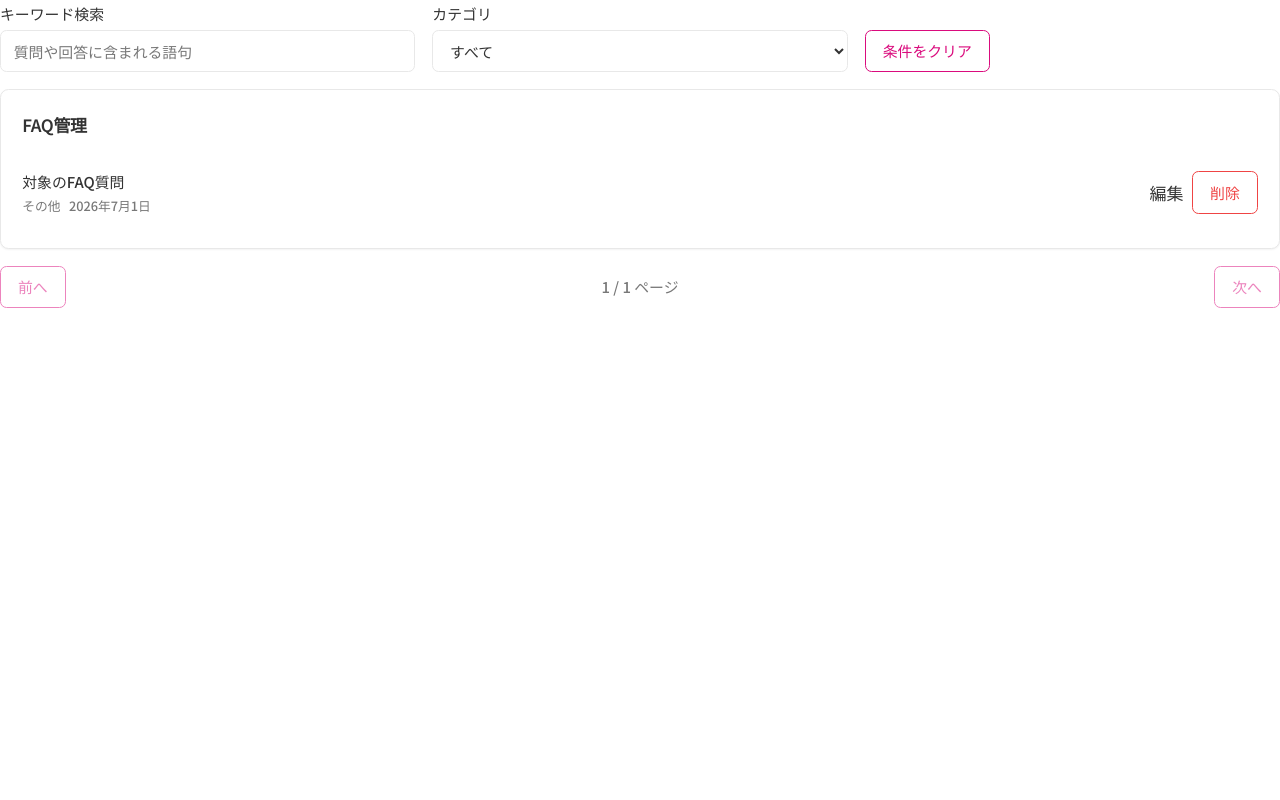
it: FaqManagementListClient › 削除確認モーダルの本文に対象の質問文が表示される
Click the button "削除".
click(1225, 192)  # box left=1192, top=171, right=1258, bottom=214
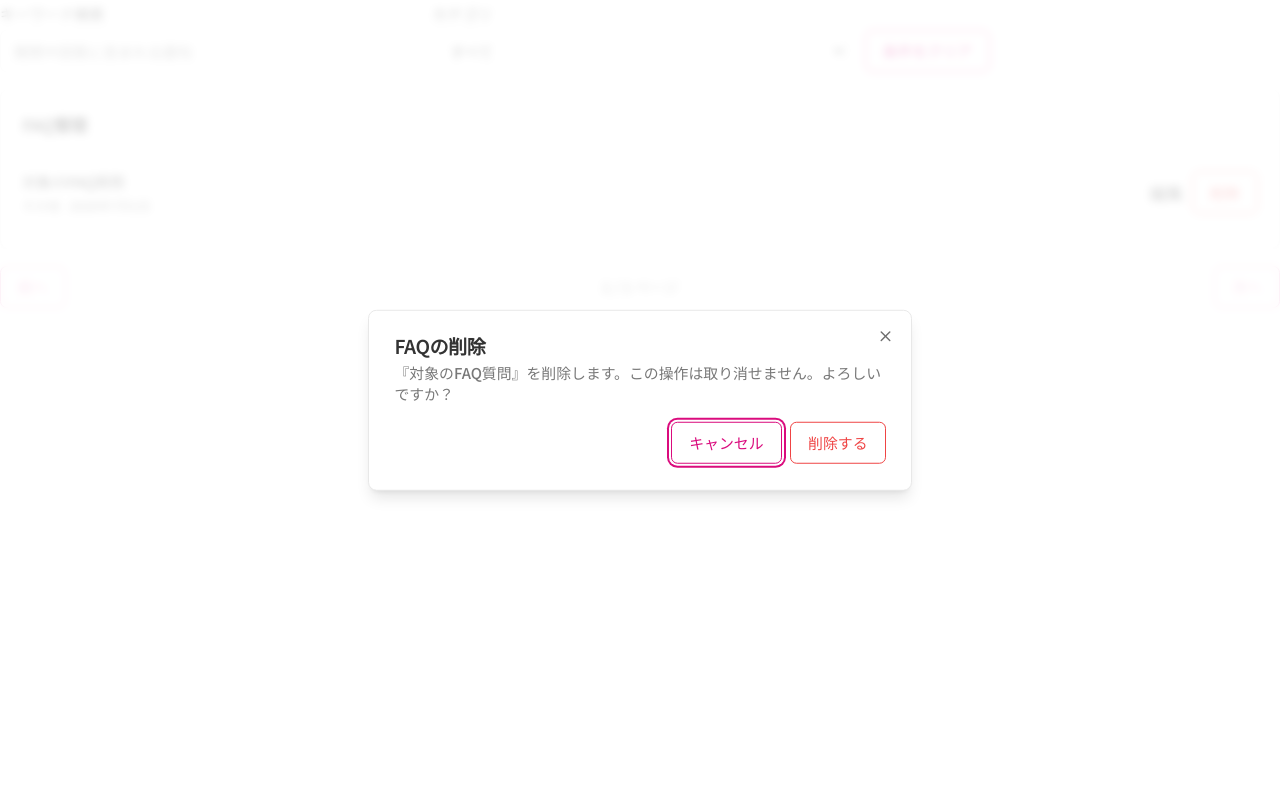
Expected: the text "『対象のFAQ質問』を削除します。この操作は取り消せません。よろしいですか？" is shown, left=394, top=362, right=886, bottom=404
